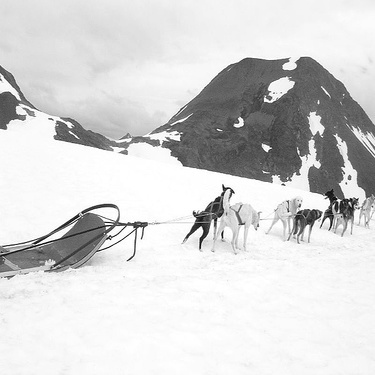dog: (204, 186, 266, 265), (182, 175, 237, 258), (316, 196, 364, 246), (300, 188, 343, 233), (268, 194, 306, 243), (288, 207, 324, 248), (349, 192, 374, 232), (327, 200, 351, 233)
